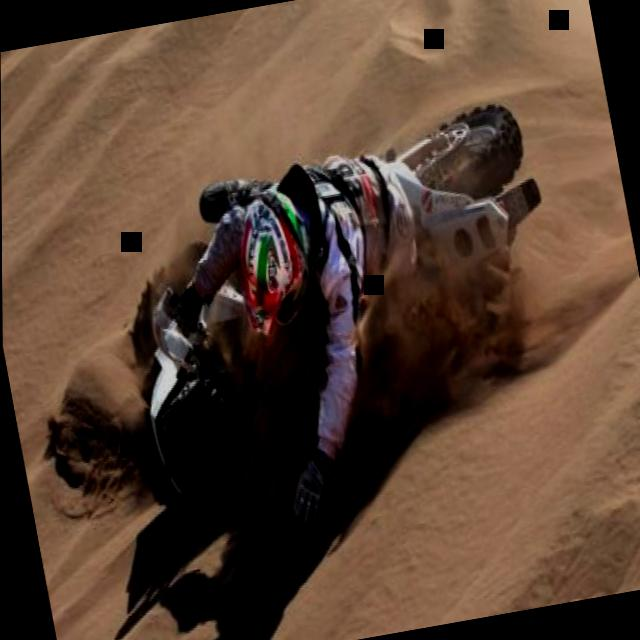Fall-Detected: (83, 96, 571, 553)
